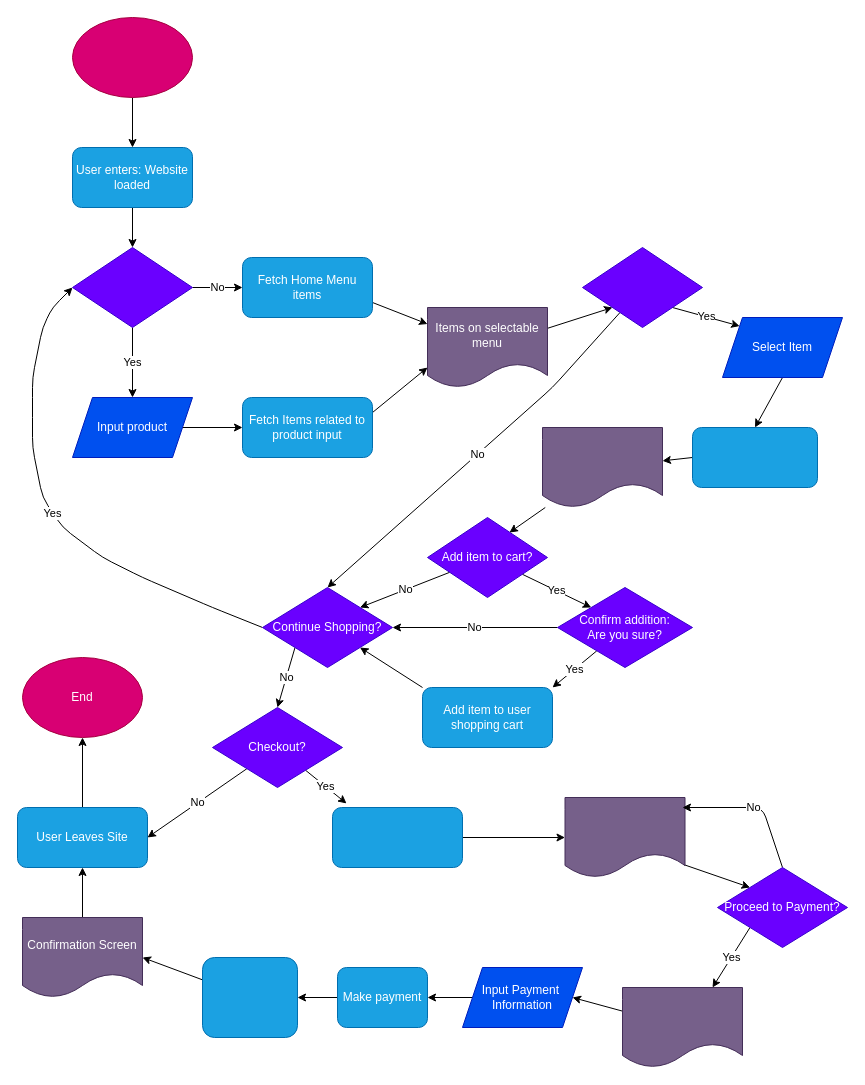
Image size: 865x1085. Some labels were removed from this diagram. Each missing label, with the centre of its shape:
"Chose item" goes at pixel 642 287.
"Fetch Item Webpage" goes at pixel 755 457.
"Fetch User Shopping Cart" goes at pixel 397 837.
"Item Webpage" goes at pixel 602 467.
"Payment Screen" goes at pixel 682 1027.
"Search Product?" goes at pixel 132 287.
"Send Confirmation Email" goes at pixel 250 997.
"START" goes at pixel 132 57.
"View Cart" goes at pixel 624 837.
